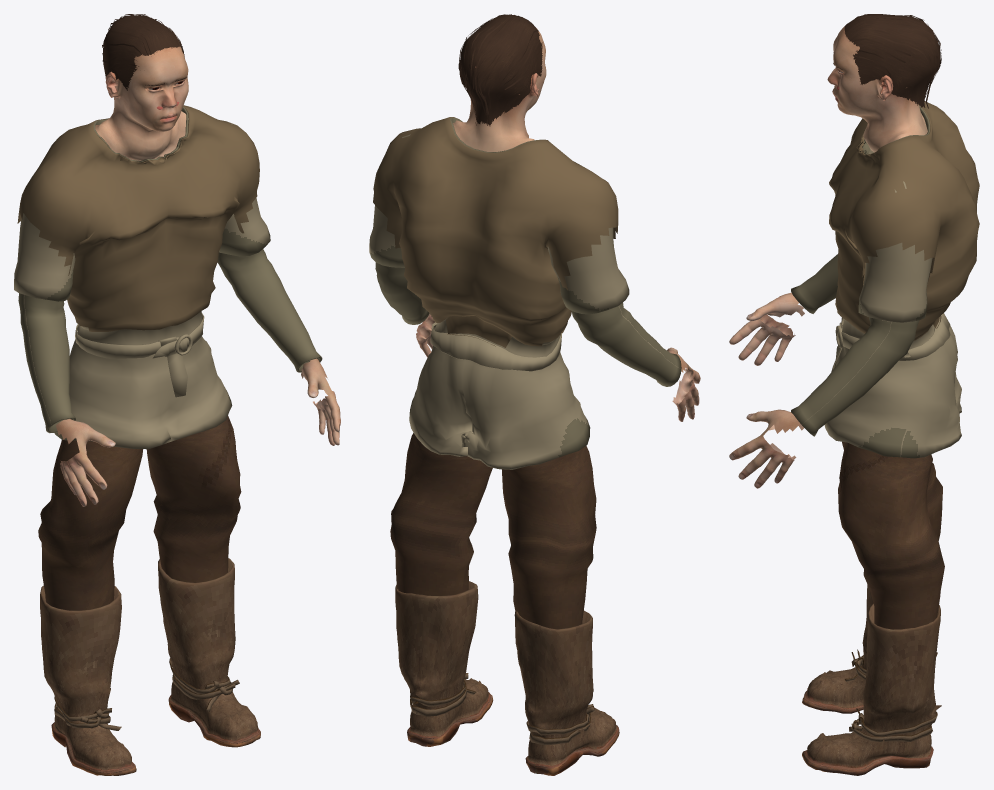
File: mike-work-vest.glb
The picture shows the model from 3 angles, left to right: view 1: azimuth 30°, elevation 25°; view 2: azimuth 150°, elevation 25°; view 3: azimuth 270°, elevation 25°; orthographic projection.
Parts seen in each view (by area): view 1: mike-work-vest runtime mesh; view 2: mike-work-vest runtime mesh; view 3: mike-work-vest runtime mesh.
Boxes of the visible parts, <box> form: mike-work-vest runtime mesh: <box>14,14,340,775</box>; mike-work-vest runtime mesh: <box>369,14,700,775</box>; mike-work-vest runtime mesh: <box>729,14,979,775</box>.
Bounding box in the file's own units: 0.7433 × 1.85 × 0.5853.
8 materials, 7 textured.
